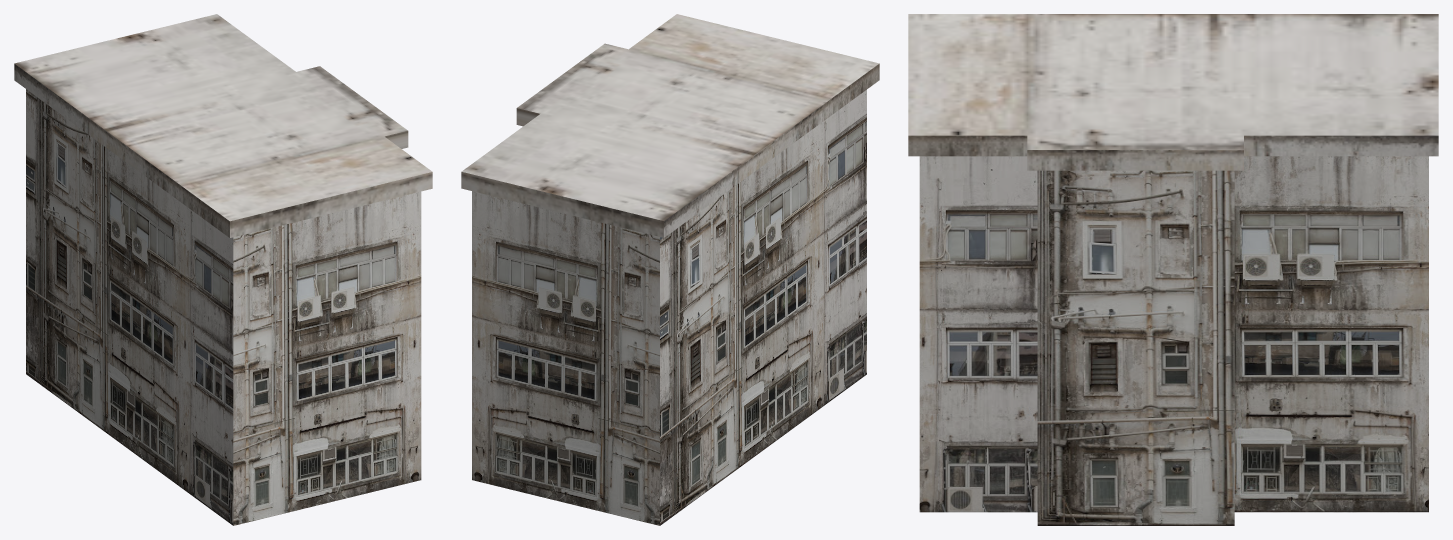
File: building10.fbx
3 renders of one model, left to right at view 1: azimuth 30°, elevation 25°; view 2: azimuth 150°, elevation 25°; view 3: azimuth 270°, elevation 25°, orthographic. The views are drawn at different scales.
Parts seen in each view (by area): view 1: Cube.008; view 2: Cube.008; view 3: Cube.008.
Boxes of the visible parts, x1,y1,x2,y2 form: Cube.008: (14, 14, 432, 525); Cube.008: (461, 14, 879, 525); Cube.008: (908, 14, 1438, 525).
Size of the model in its own units: 2273 by 2969 by 3746.
1 material, 1 textured.
